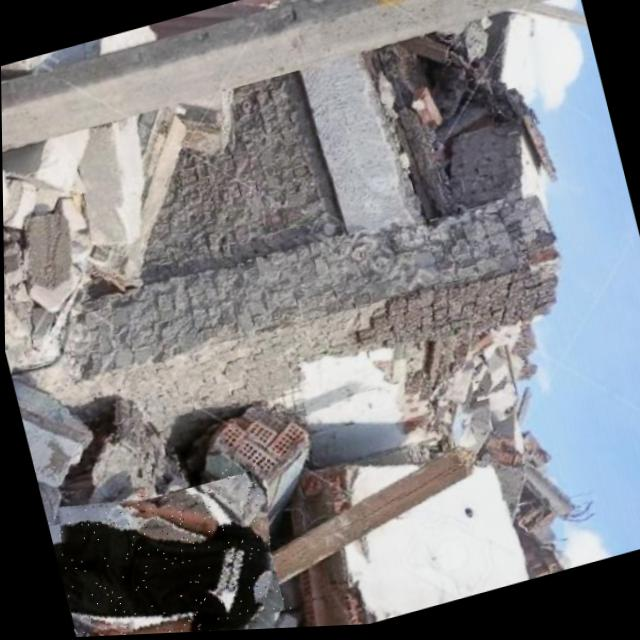Person in Rubble: (43, 462, 290, 639)
